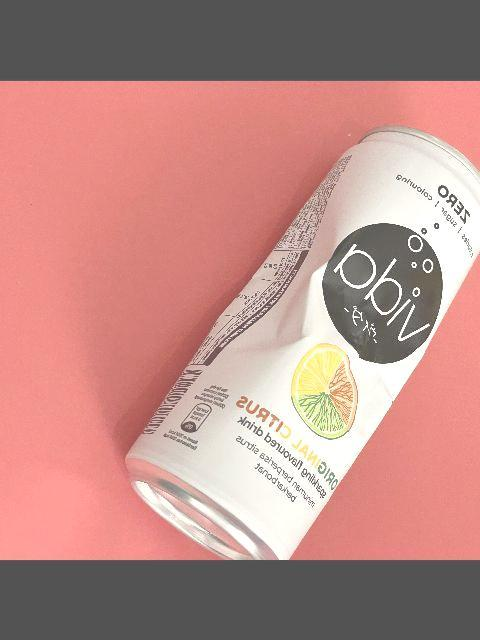drinkcan: (121, 122, 480, 560)
